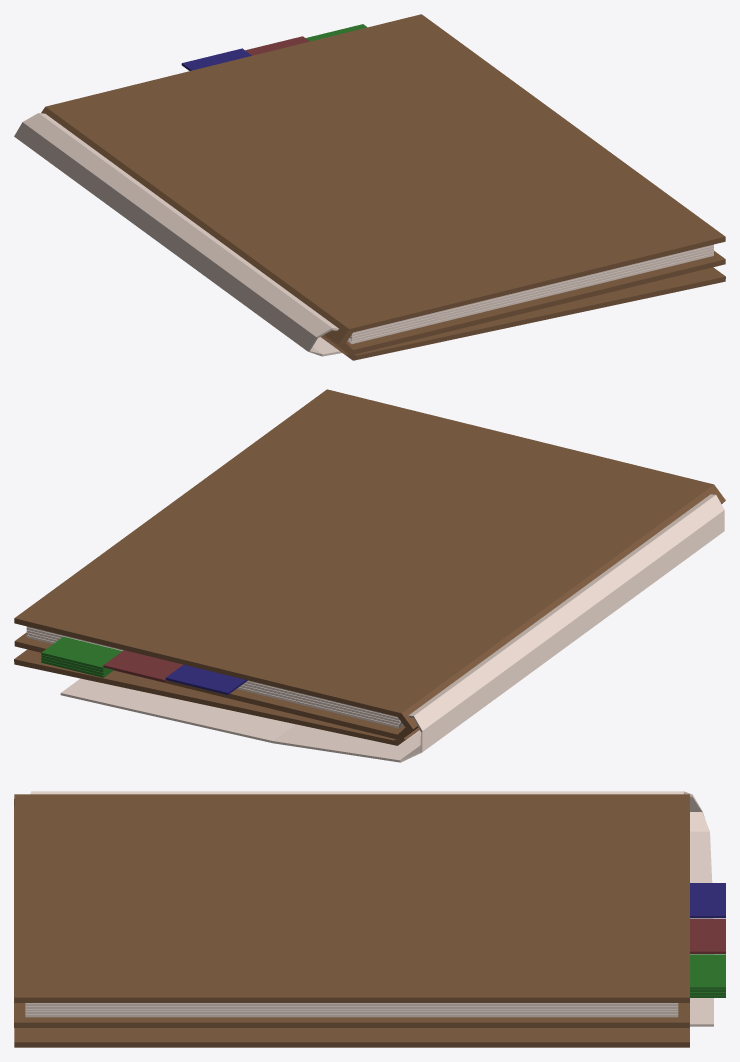
File: la carpeta.fbx
3 renders of one model, top to bottom at view 1: azimuth 30°, elevation 25°; view 2: azimuth 150°, elevation 25°; view 3: azimuth 270°, elevation 25°, orthographic. The views are drawn at different scales.
Parts seen in each view (by area): view 1: carpeta cerrada, hoja 1.001, carpeta abierta, hoja 3, hoja 4, hoja 5, hoja 6, hoja 2, hoja 1; view 2: carpeta cerrada, hoja 1.001, carpeta abierta, hoja 3, hoja 2, hoja 1, hoja 6, hoja 5, hoja 4; view 3: carpeta cerrada, carpeta abierta, hoja 1.001, hoja 3, hoja 2, hoja 5, hoja 6, hoja 4, hoja 1.
Boxes of the visible parts, left/top/right/bottom form: carpeta cerrada: left=41, top=14, right=725, bottom=355; hoja 1.001: left=14, top=113, right=351, bottom=356; carpeta abierta: left=321, top=259, right=725, bottom=360; hoja 3: left=305, top=24, right=713, bottom=336; hoja 4: left=349, top=248, right=713, bottom=338; hoja 5: left=350, top=251, right=713, bottom=341; hoja 6: left=351, top=253, right=713, bottom=343; hoja 2: left=245, top=36, right=713, bottom=333; hoja 1: left=181, top=48, right=251, bottom=70; carpeta cerrada: left=14, top=389, right=725, bottom=739; hoja 1.001: left=60, top=494, right=724, bottom=762; carpeta abierta: left=14, top=649, right=419, bottom=745; hoja 3: left=26, top=627, right=399, bottom=720; hoja 2: left=26, top=626, right=397, bottom=717; hoja 1: left=165, top=664, right=247, bottom=694; hoja 6: left=26, top=635, right=399, bottom=728; hoja 5: left=26, top=632, right=400, bottom=725; hoja 4: left=26, top=630, right=400, bottom=723; carpeta cerrada: left=14, top=794, right=689, bottom=1027; carpeta abierta: left=14, top=1003, right=689, bottom=1047; hoja 1.001: left=30, top=791, right=713, bottom=1026; hoja 3: left=25, top=954, right=725, bottom=1008; hoja 2: left=25, top=919, right=725, bottom=1005; hoja 5: left=25, top=992, right=725, bottom=1014; hoja 6: left=25, top=995, right=725, bottom=1017; hoja 4: left=25, top=989, right=725, bottom=1011; hoja 1: left=25, top=883, right=725, bottom=1003.
Bounding box in the file's own units: 1934 × 245 × 2666.
